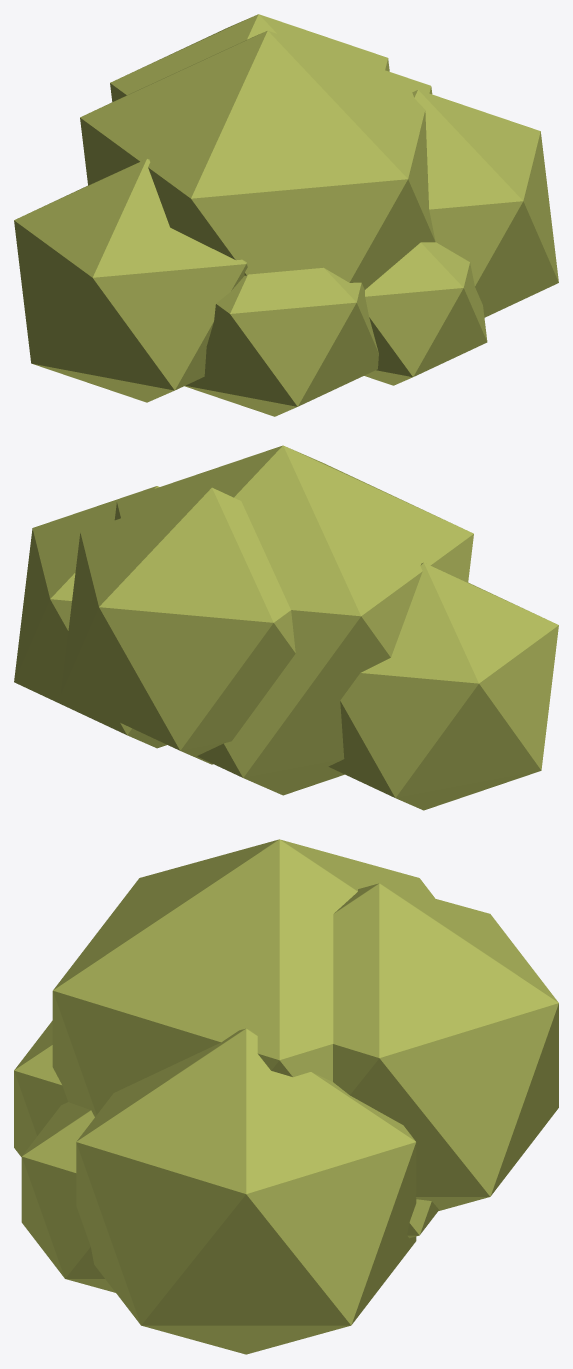
Rendered from bush_lime.glb.
3 views of the same model, one above another, from view 1: azimuth 30°, elevation 25°; view 2: azimuth 150°, elevation 25°; view 3: azimuth 270°, elevation 25° (orthographic). The views are drawn at different scales.
Parts seen in each view (by area): view 1: bush_lime; view 2: bush_lime; view 3: bush_lime.
Part boxes in pixels (left/top/right/bottom): bush_lime: left=14, top=14, right=558, bottom=416; bush_lime: left=14, top=445, right=558, bottom=810; bush_lime: left=14, top=839, right=558, bottom=1354.
Size of the model in its own units: 3.32 by 2.16 by 2.45.
